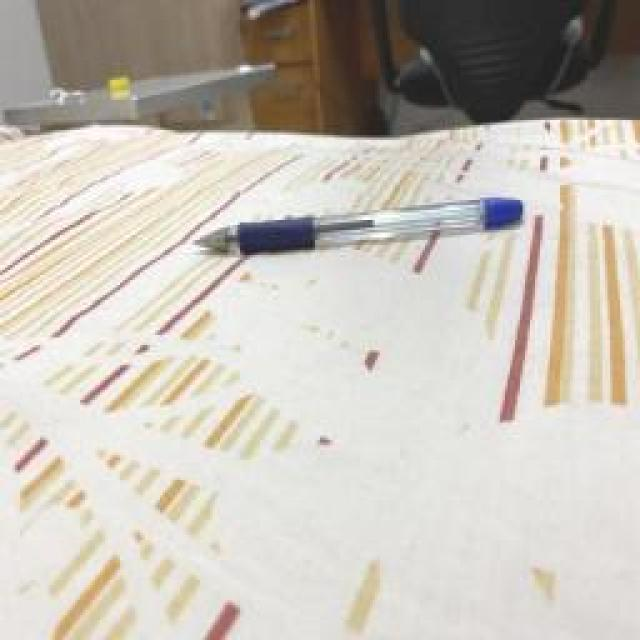pen: (195, 192, 528, 255)
